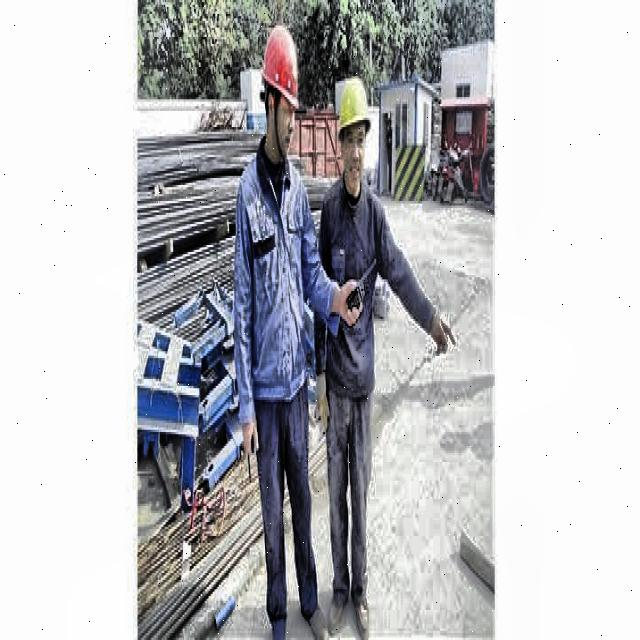helmet: (257, 23, 298, 157), (332, 69, 374, 187)
